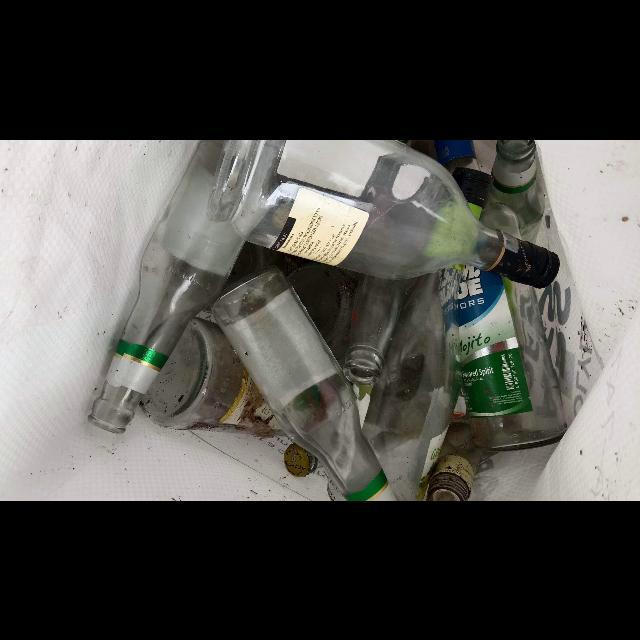glass_bottle: (205, 139, 560, 288), (89, 139, 243, 434), (212, 266, 397, 501), (361, 268, 463, 501), (459, 264, 567, 449), (137, 316, 285, 438), (343, 274, 414, 385), (491, 139, 545, 242), (480, 192, 522, 238), (436, 139, 477, 176)
